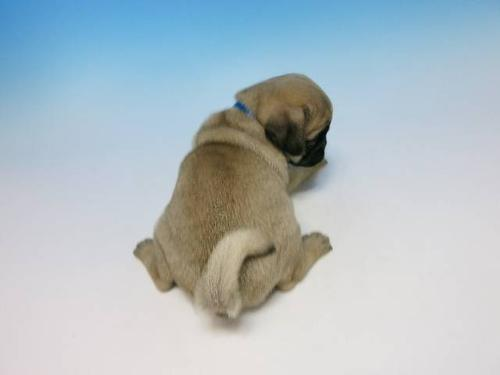dog: (226, 73, 354, 180)
